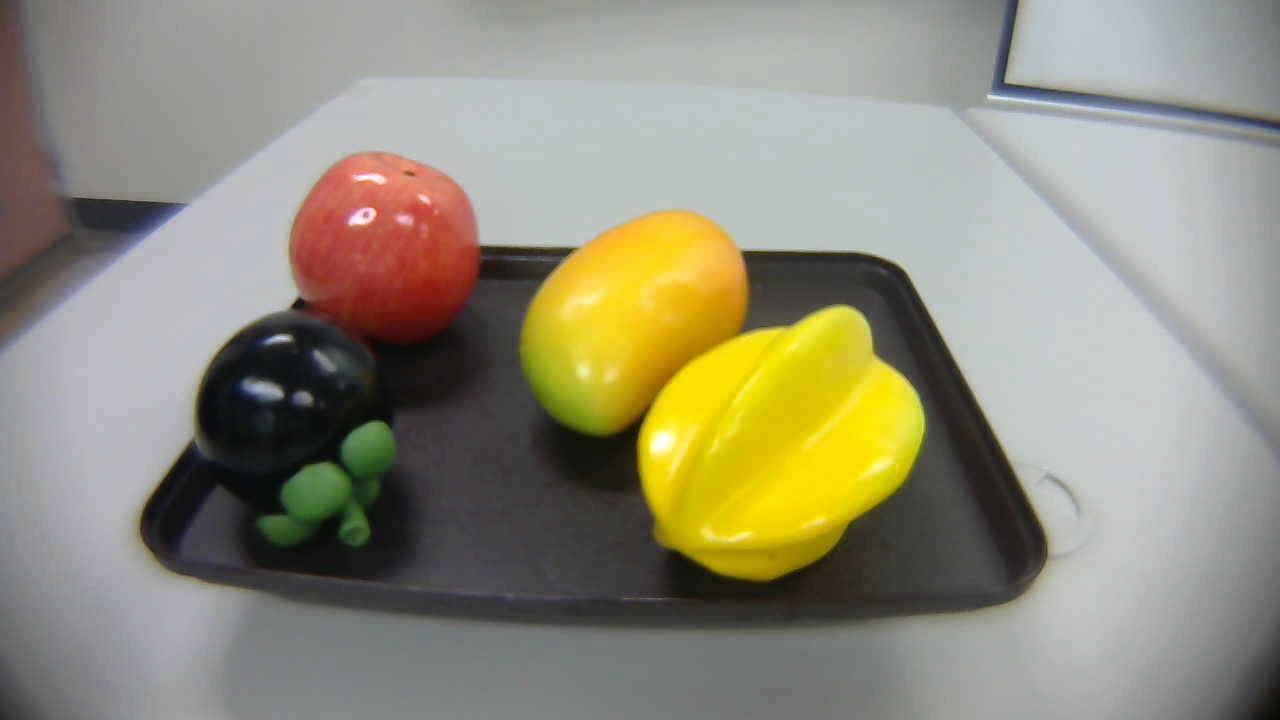mangosteen: (185, 306, 400, 551)
red apple: (278, 149, 488, 353)
star fruit: (624, 300, 927, 578)
yellow mango: (500, 208, 757, 434)
